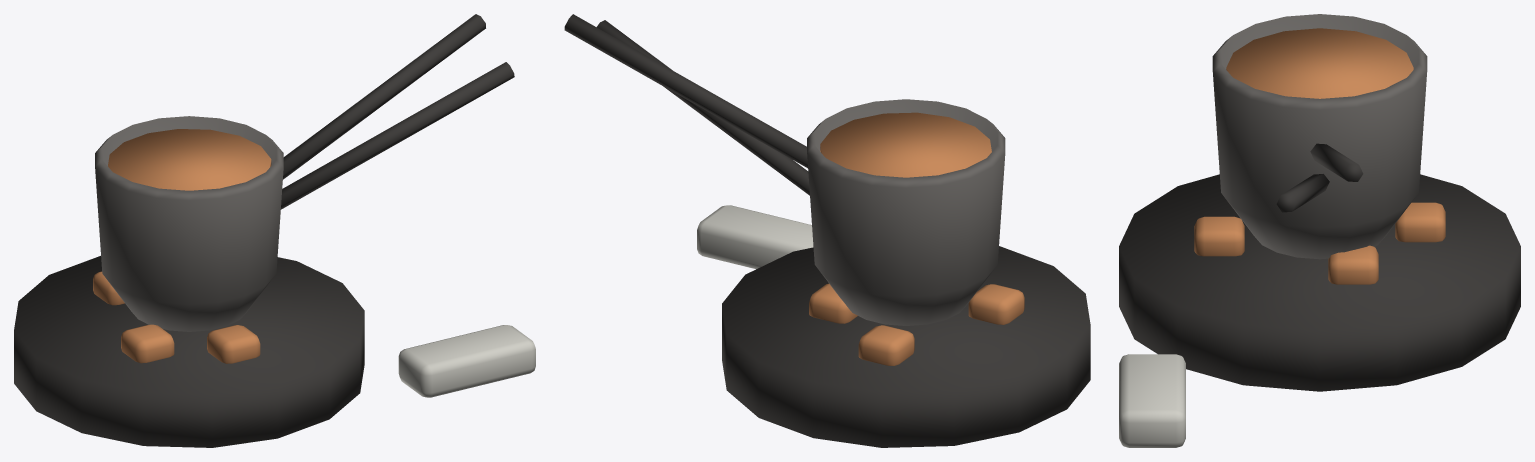
The model's file is crucible.glb.
3 views of the same model, side by side, from view 1: azimuth 30°, elevation 25°; view 2: azimuth 150°, elevation 25°; view 3: azimuth 270°, elevation 25° (orthographic). The views are drawn at different scales.
Visible parts, largest first — view 1: coals, crucible, melt, ingot, tong2, tong1, ember.002, ember.001, ember.003; view 2: coals, crucible, melt, ingot, tong1, tong2, ember.003, ember.001, ember; view 3: coals, crucible, melt, ingot, ember.002, ember.003, ember, tong2, tong1.
Part boxes in pixels (x1,y1,x2,y2): coals: [14, 256, 364, 447]; crucible: [95, 116, 283, 331]; melt: [108, 129, 271, 190]; ingot: [398, 325, 535, 397]; tong2: [281, 62, 514, 209]; tong1: [283, 14, 485, 179]; ember.002: [207, 325, 260, 363]; ember.001: [121, 324, 174, 363]; ember.003: [93, 271, 124, 305]; coals: [722, 246, 1090, 447]; crucible: [807, 99, 1005, 325]; melt: [820, 112, 991, 177]; ingot: [697, 205, 813, 269]; tong1: [564, 14, 807, 168]; tong2: [597, 20, 809, 195]; ember.003: [858, 325, 914, 365]; ember.001: [968, 284, 1024, 324]; ember: [809, 283, 857, 323]; coals: [1119, 174, 1520, 391]; crucible: [1212, 14, 1427, 259]; melt: [1226, 28, 1413, 98]; ingot: [1119, 354, 1185, 447]; ember.002: [1194, 216, 1244, 256]; ember.003: [1395, 202, 1445, 242]; ember: [1328, 245, 1378, 284]; tong2: [1276, 174, 1329, 212]; tong1: [1310, 143, 1363, 181].
Size of the model in its own units: 0.3621 by 0.2051 by 0.24.
